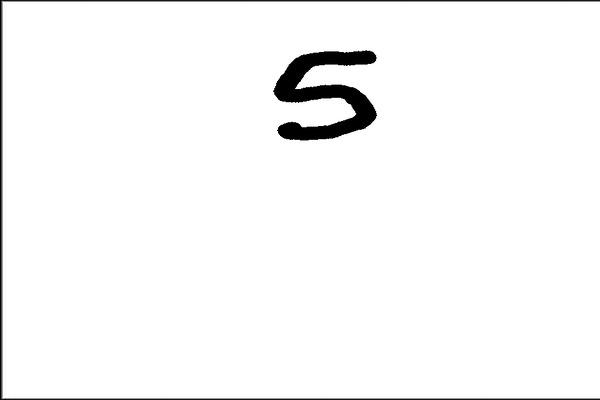S: (267, 43, 386, 146)
